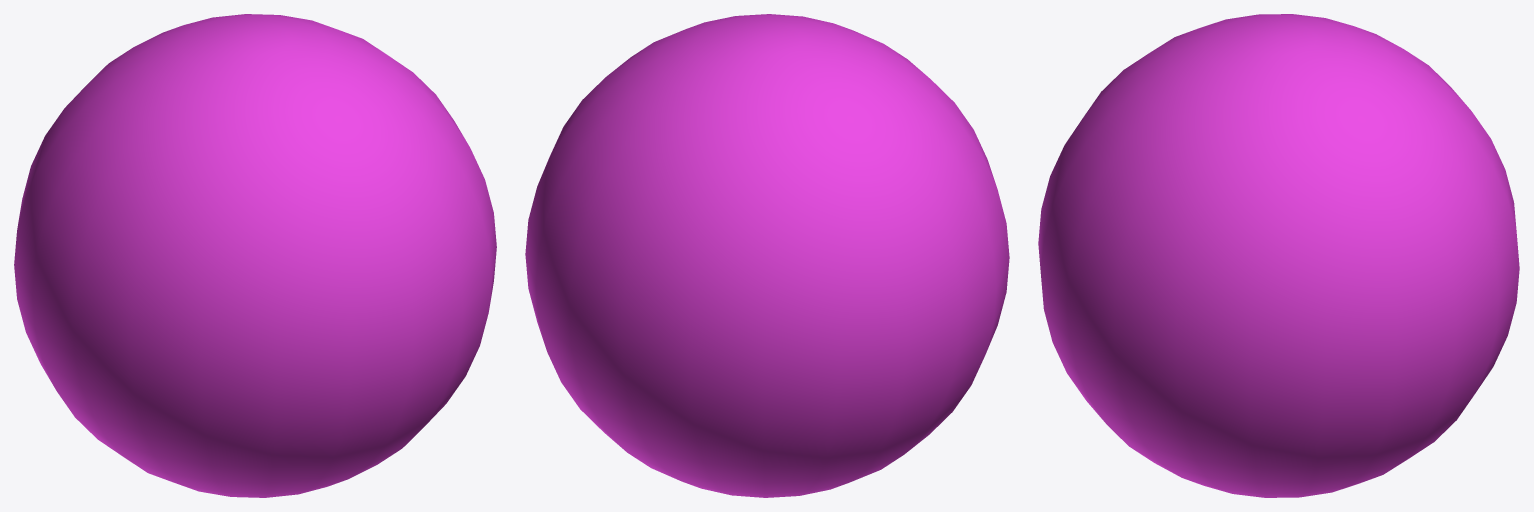
File: yuan.fbx
3 renders of one model, left to right at view 1: azimuth 30°, elevation 25°; view 2: azimuth 150°, elevation 25°; view 3: azimuth 270°, elevation 25°, orthographic.
Visible parts, largest first — view 1: pSphere1; view 2: pSphere1; view 3: pSphere1.
Boxes of the visible parts, left/top/right/bottom form: pSphere1: left=14, top=14, right=496, bottom=497; pSphere1: left=525, top=14, right=1009, bottom=497; pSphere1: left=1038, top=14, right=1519, bottom=497.
Size of the model in its own units: 1.99 by 2 by 1.99.
